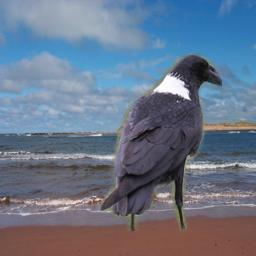Crow: (99, 53, 222, 231)
